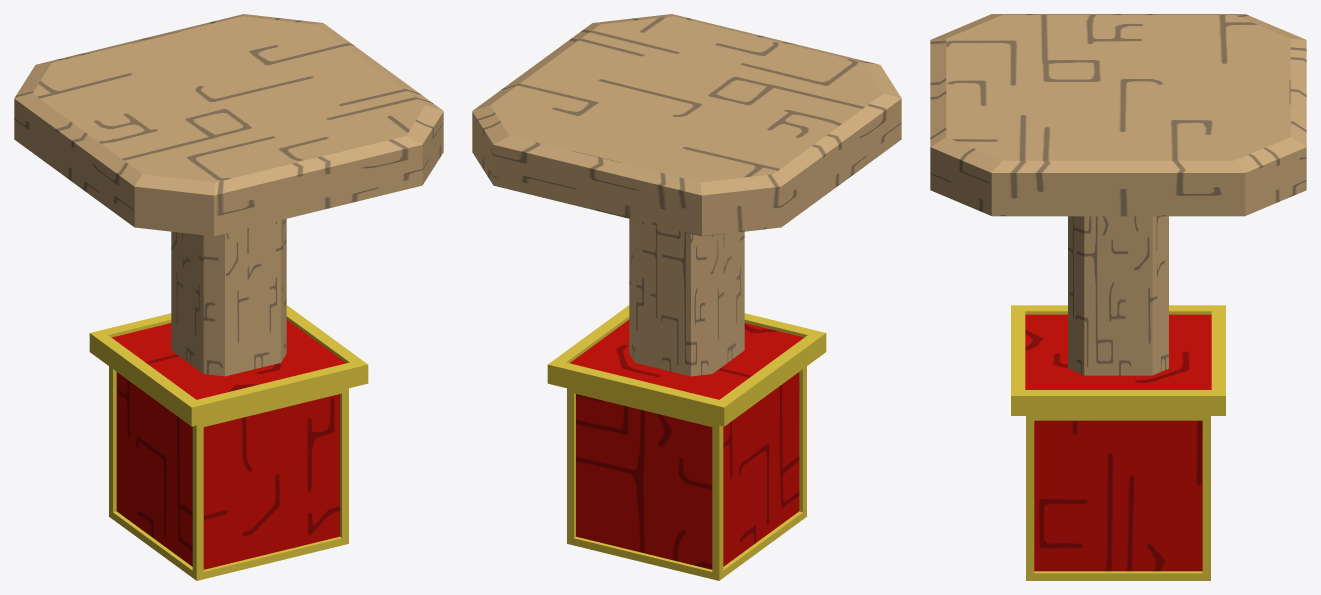
The model's file is Mesh_PushBlockPlatform.glb.
3 renders of one model, left to right at view 1: azimuth 30°, elevation 25°; view 2: azimuth 150°, elevation 25°; view 3: azimuth 270°, elevation 25°, orthographic. The views are drawn at different scales.
Visible parts, largest first — view 1: Cube.069; view 2: Cube.069; view 3: Cube.069.
Boxes of the visible parts, bbox=[...] form: Cube.069: bbox=[14, 14, 443, 580]; Cube.069: bbox=[472, 14, 901, 580]; Cube.069: bbox=[930, 14, 1306, 580].
Size of the model in its own units: 14.11 by 18.79 by 14.11.
Materials: 3 (2 with a texture image).
